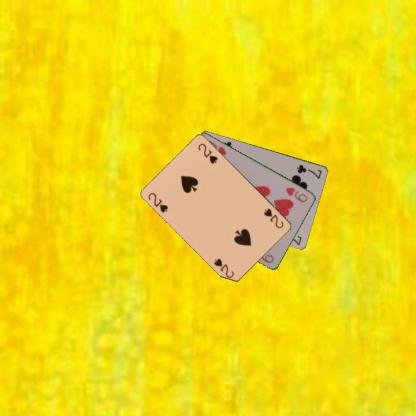2s: (145, 190, 170, 214), (261, 206, 285, 230)
7c: (294, 162, 323, 180)
9h: (284, 184, 309, 204)
